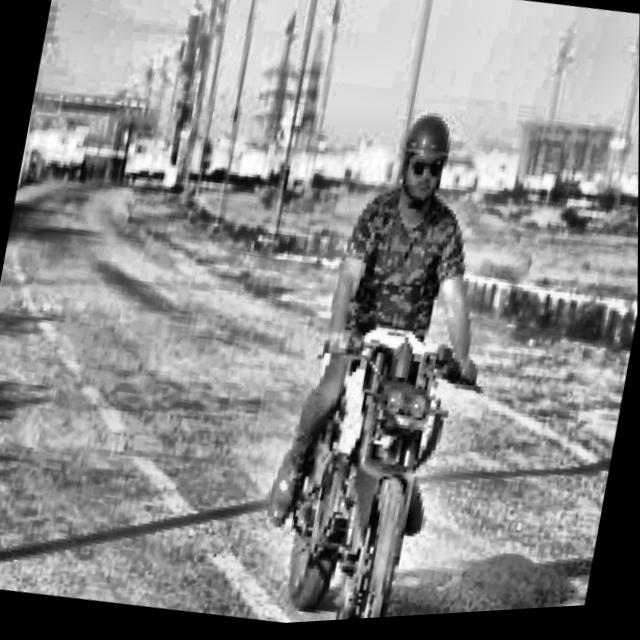motorcycle: (242, 285, 522, 629)
